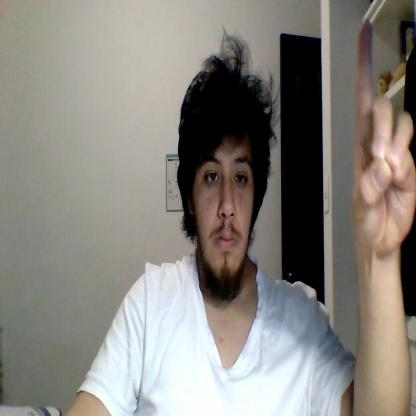D: (350, 19, 415, 256)
